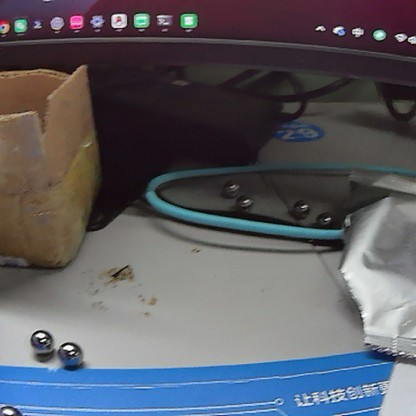ironball: (54, 336, 84, 370), (28, 327, 57, 358), (290, 195, 311, 220), (311, 209, 335, 230), (220, 175, 242, 195), (0, 396, 23, 414), (234, 196, 254, 214)
